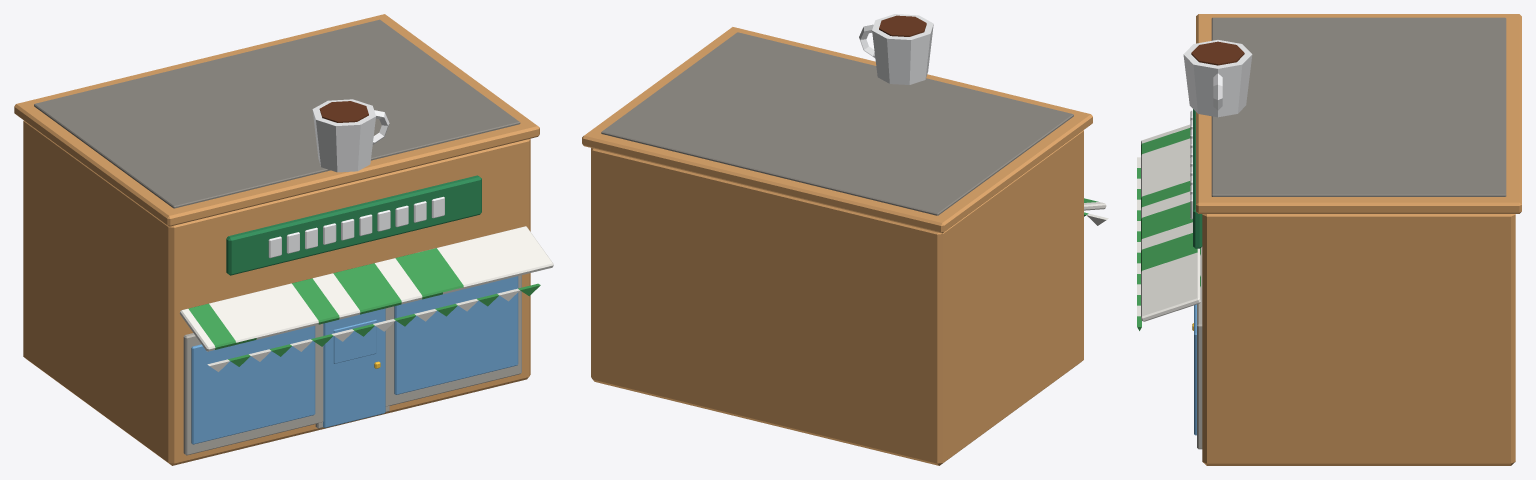
Rendered from Cafe.fbx.
3 views of the same model, side by side, from view 1: azimuth 30°, elevation 25°; view 2: azimuth 150°, elevation 25°; view 3: azimuth 270°, elevation 25° (orthographic). The views are drawn at different scales.
Visible parts, largest first — view 1: Cafe; view 2: Cafe; view 3: Cafe.
Boxes of the visible parts, x1,y1,x2,y2 form: Cafe: (14, 14, 553, 465); Cafe: (582, 14, 1108, 465); Cafe: (1137, 14, 1521, 465).
Bounding box in the file's own units: 14.4 × 11.35 × 12.28.
1 material, 1 textured.
